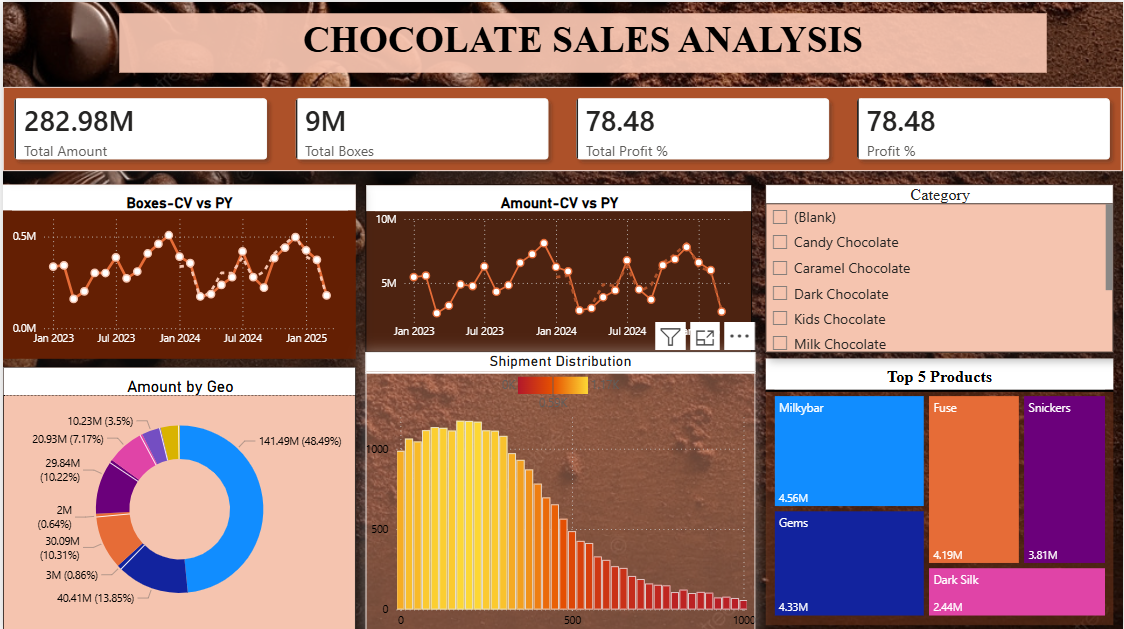

This screenshot's page, from the dashboard's own definition file:
{"tool":"powerbi","page":{"name":"Page 1","canvas":[1280,720],"ordinal":0},"visuals":[{"type":"lineChart","title":"Amount-CV vs PY","fields":{"Category":["calendar.Start of Month"],"Y":["shipments.Total Amount","shipments.Total Amount(last year)"]},"box":[414.4,208.6,441.9,192.1],"z":0},{"type":"lineChart","title":"Boxes-CV vs PY","fields":{"Category":["calendar.Start of Month"],"Y":["shipments.Total Boxes","shipments.Total Boxes(last year)"]},"box":[0,208.6,403.4,199],"z":1000},{"type":"donutChart","title":"Amount by Geo","fields":{"Category":["locations.Geo"],"Y":["shipments.Total Amount","shipments.Total Boxes"]},"box":[0,417.2,403.4,303.3],"z":2000},{"type":"treemap","title":"Top 5 Products","fields":{"Values":["shipments.Total Amount"],"Group":["products.Product"]},"box":[871.4,407.5,397.9,304.6],"z":3000},{"type":"clusteredColumnChart","title":"Shipment Distribution","fields":{"Category":["shipments.Boxes (bins)"],"Y":["shipments.Shipment Count"]},"box":[414.4,400.7,446,319.7],"z":4000},{"type":"cardVisual","fields":{"Data":["shipments.Total Amount","shipments.Total Boxes","shipments.Total Profit","shipments.profit %"]},"box":[0,97.4,1280.3,96.1],"z":5000},{"type":"slicer","title":"Category","fields":{"Values":["products.Category"]},"box":[871.4,208.6,397.9,192.1],"z":6000},{"type":"textbox","box":[133.3,13.3,1060,68.3],"z":7000}]}

Visuals, with their boxes in screenshot pixels (x1, y1, x2, y2), scaled from the page's 1280x720 canvas onto the 1124x629 screenshot:
"Amount-CV vs PY" lineChart: Rect(364, 182, 752, 350)
"Boxes-CV vs PY" lineChart: Rect(0, 182, 354, 356)
"Amount by Geo" donutChart: Rect(0, 364, 354, 628)
"Top 5 Products" treemap: Rect(765, 356, 1115, 622)
"Shipment Distribution" clusteredColumnChart: Rect(364, 350, 756, 628)
cardVisual - shipments.Total Amount x shipments.Total Boxes: Rect(0, 85, 1123, 169)
"Category" slicer: Rect(765, 182, 1115, 350)
textbox: Rect(117, 12, 1048, 71)
